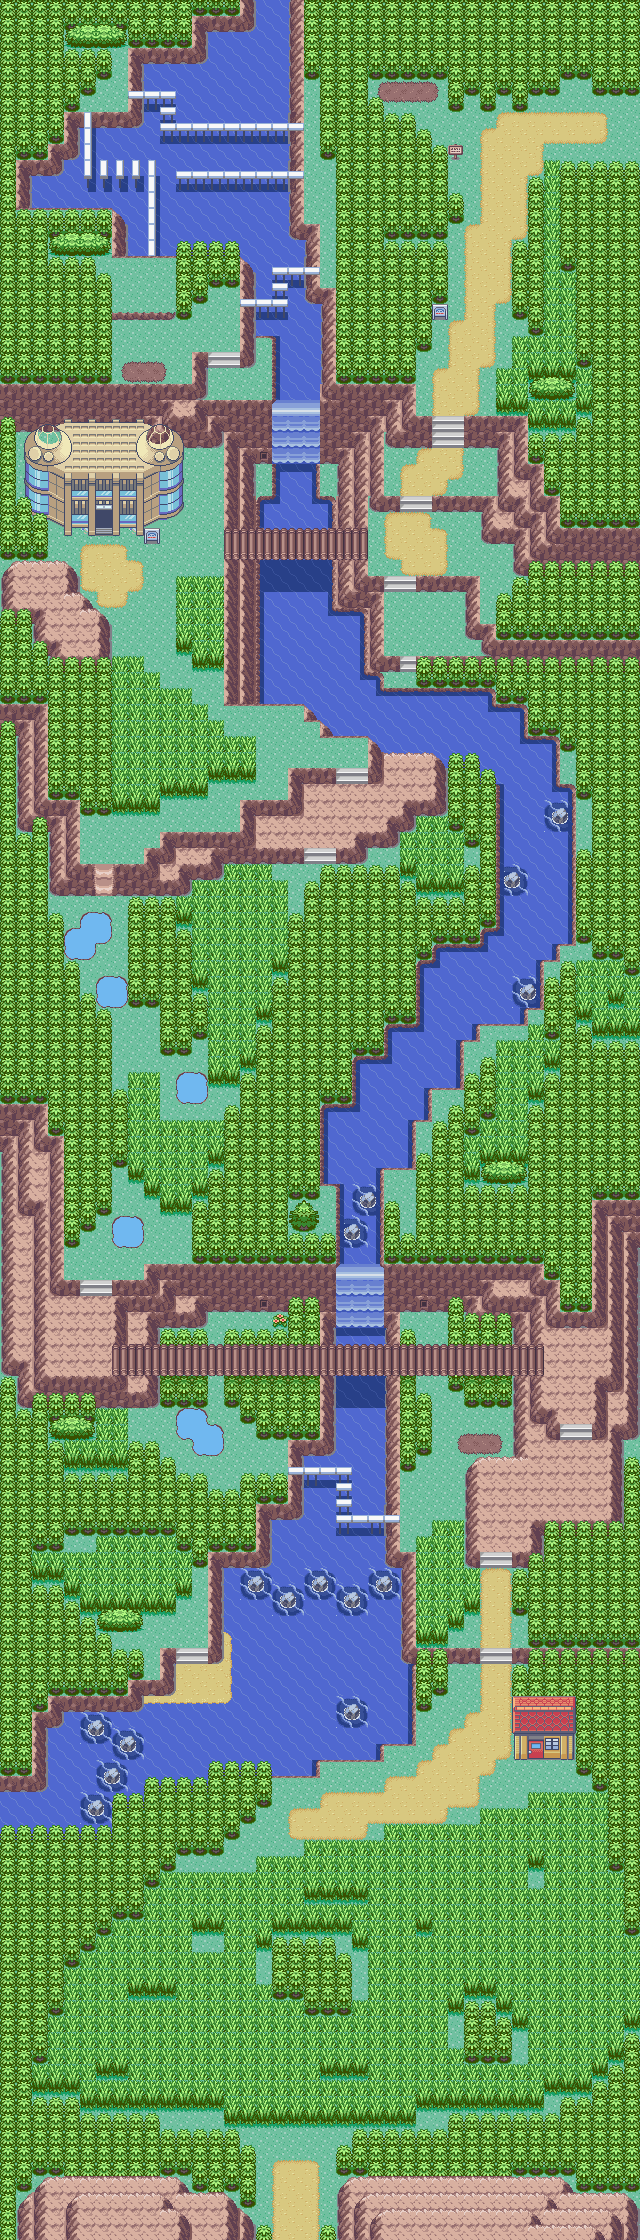misc: (61, 481, 146, 539)
normal_house: (509, 1694, 581, 1763)
